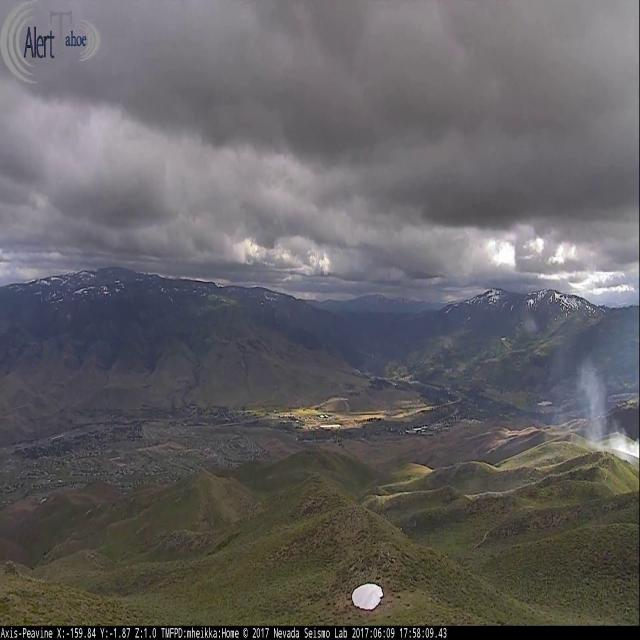smoke: (551, 347, 640, 458)
